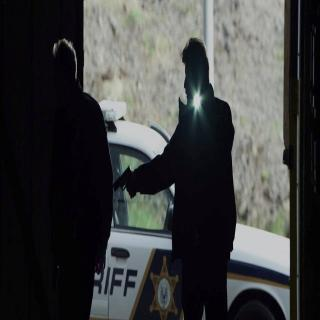gun: (111, 163, 138, 208)
